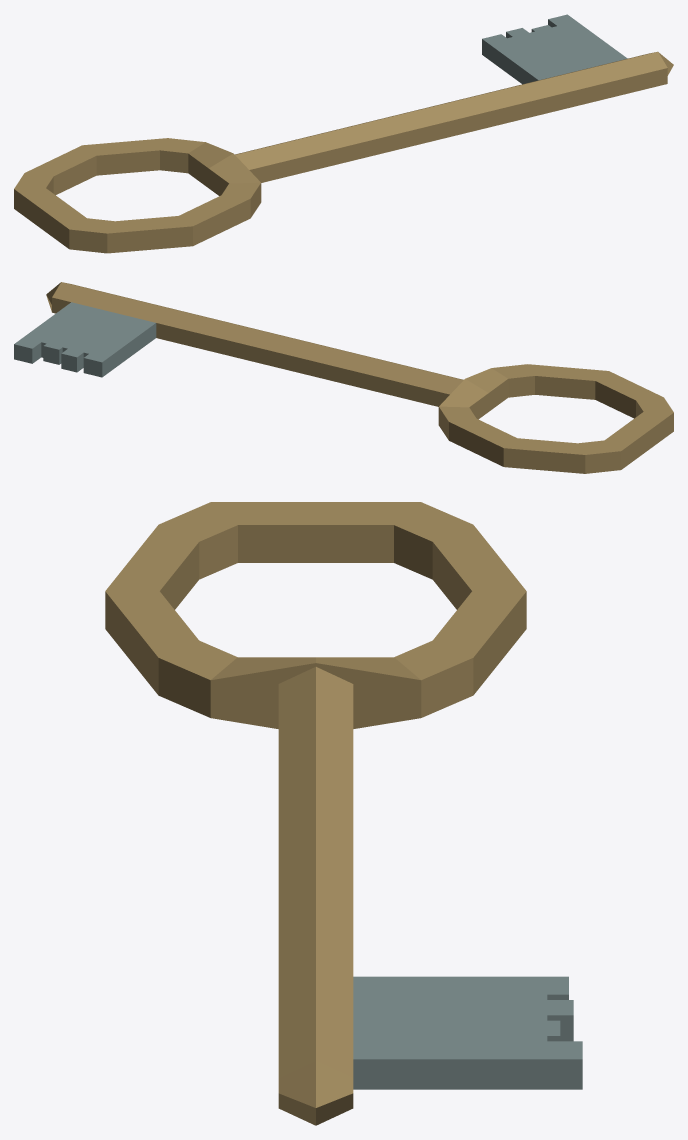
Rendered from mdl_key.fbx.
3 views of the same model, one above another, from view 1: azimuth 30°, elevation 25°; view 2: azimuth 150°, elevation 25°; view 3: azimuth 270°, elevation 25° (orthographic). The views are drawn at different scales.
Parts seen in each view (by area): view 1: mdl_key; view 2: mdl_key; view 3: mdl_key.
Part boxes in pixels (<box>): mdl_key: <box>14,14,673,253</box>; mdl_key: <box>14,282,673,473</box>; mdl_key: <box>105,502,582,1125</box>.
Bounding box in the file's own units: 0.1272 × 0.0073 × 0.0437.
